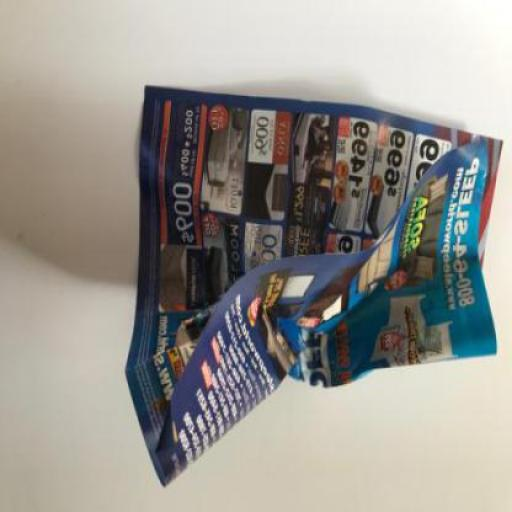paper: (126, 84, 504, 484)
